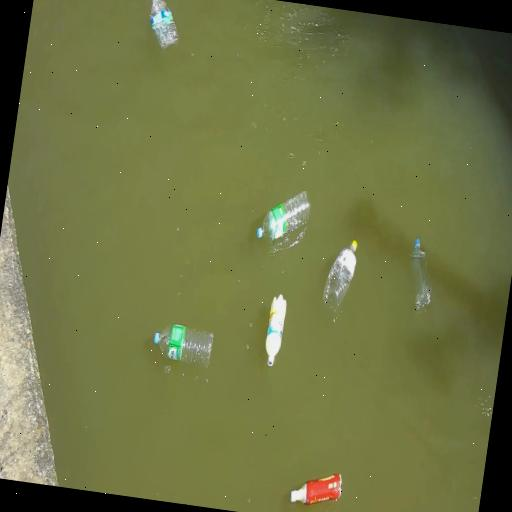plastic: (256, 191, 309, 241), (153, 324, 212, 367), (323, 240, 356, 308), (290, 474, 341, 505), (265, 295, 285, 366), (410, 239, 430, 310), (149, 0, 178, 48)
